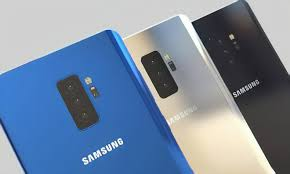samsung: (1, 28, 197, 173)
